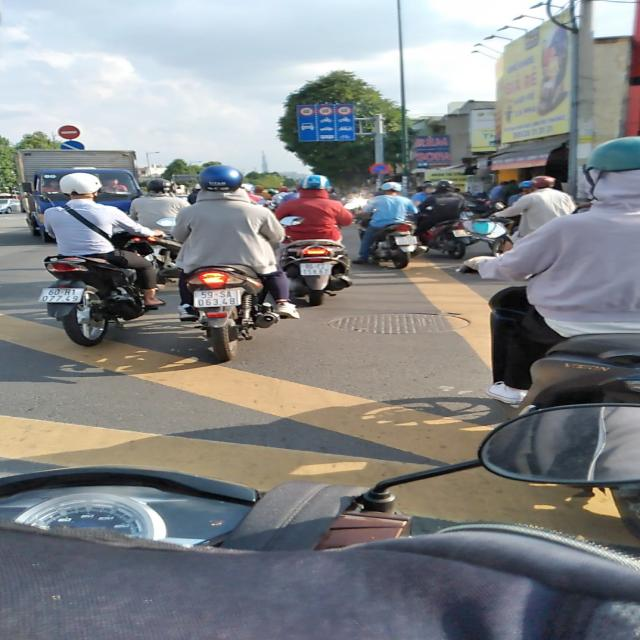Cam do: (369, 163, 391, 175)
Cam nguoc chieu: (57, 124, 81, 140)
Hieu lenh: (60, 141, 86, 155)
Toc do toi da: (317, 106, 334, 116), (298, 106, 314, 116), (337, 106, 352, 116)
